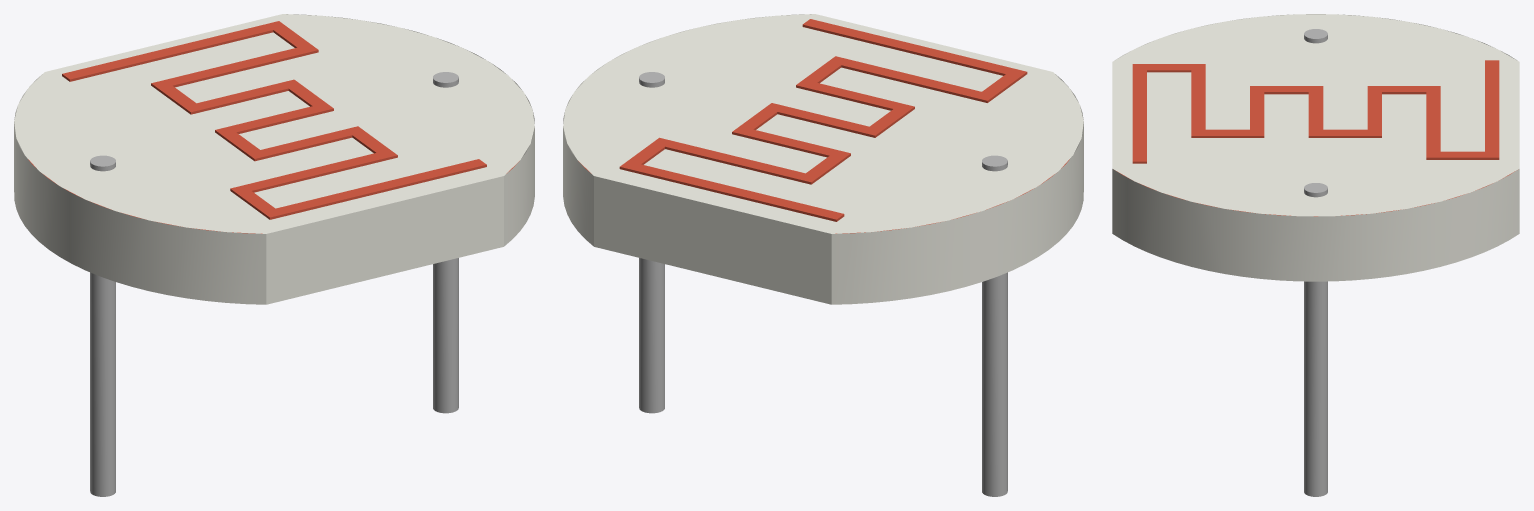
Rendered from ldr.glb.
The picture shows the model from 3 angles, left to right: view 1: azimuth 30°, elevation 25°; view 2: azimuth 150°, elevation 25°; view 3: azimuth 270°, elevation 25°; orthographic projection. The views are drawn at different scales.
Size of the model in its own units: 10 by 7 by 8.5.
